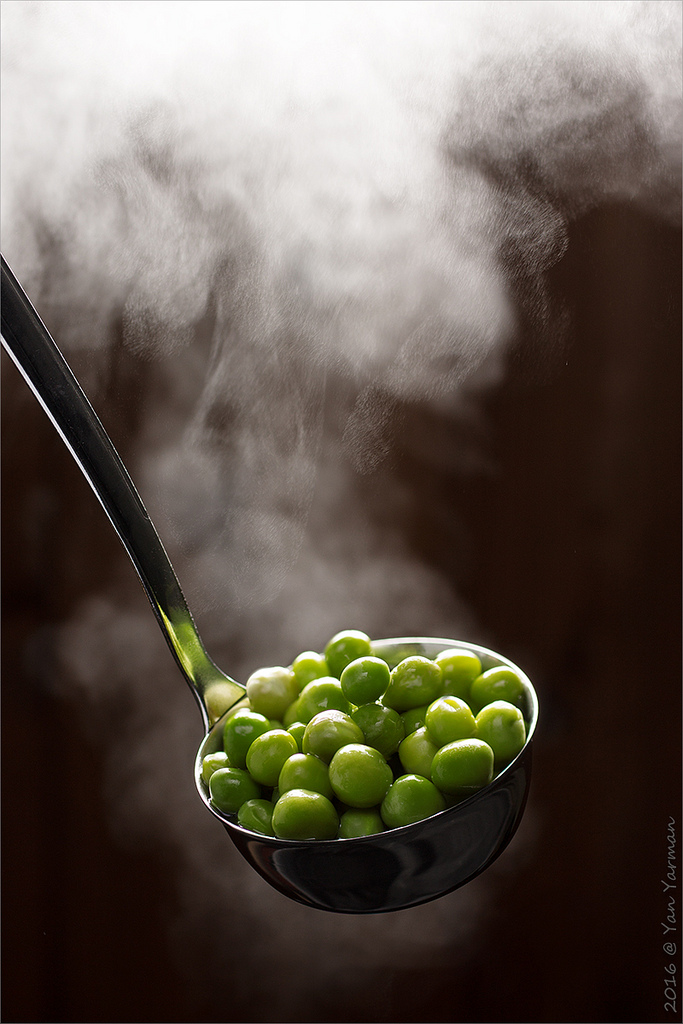boiled peas: (241, 678, 442, 784)
